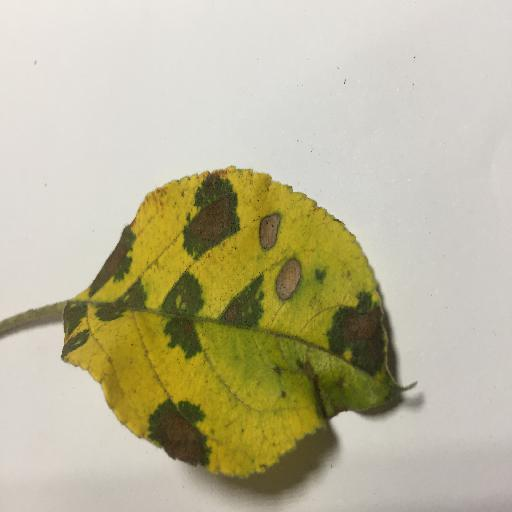Brown_Spot: (150, 412, 203, 462), (342, 309, 384, 365), (194, 195, 225, 241), (277, 257, 302, 295), (95, 250, 120, 284), (260, 214, 278, 246), (312, 379, 327, 416), (223, 305, 236, 319), (181, 320, 195, 332)
